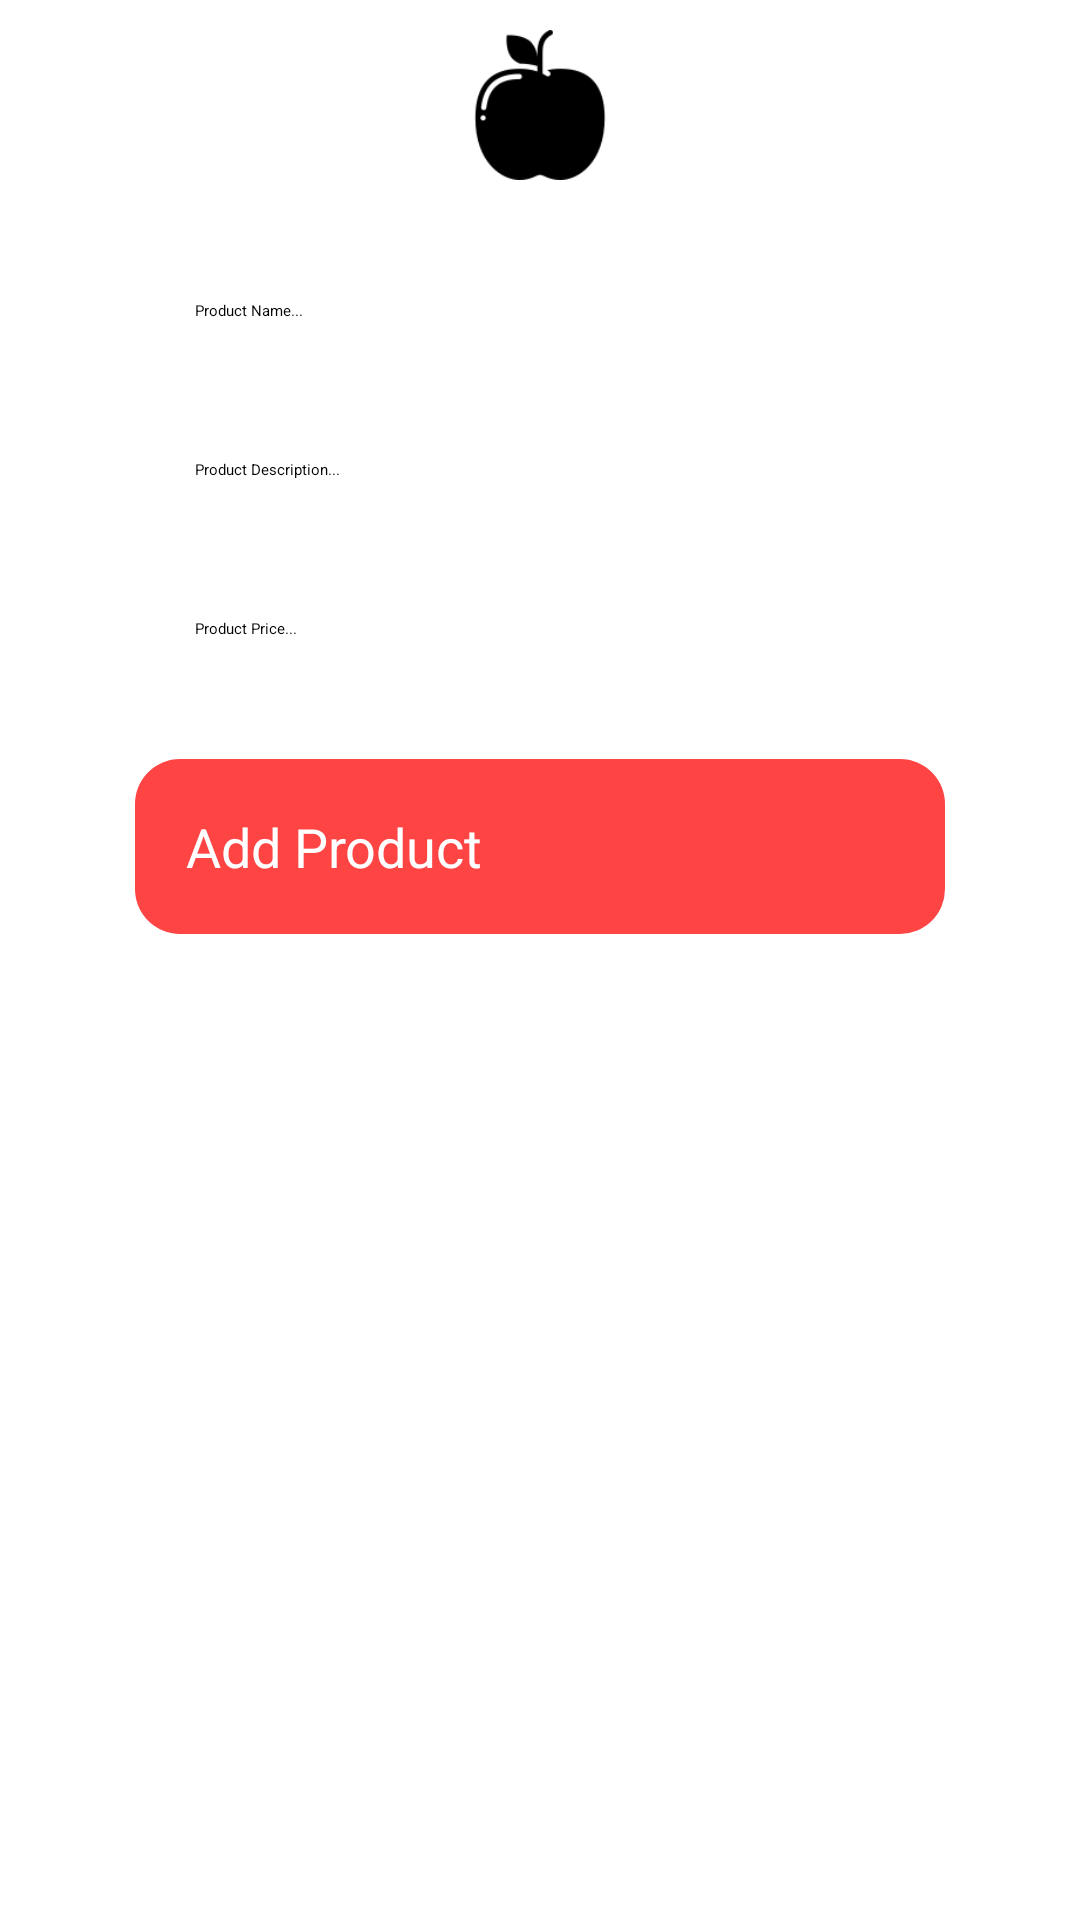

Icons on this 1080px×1920px Android screen, each with the point to tap as (x,y):
apple: (540,105)
